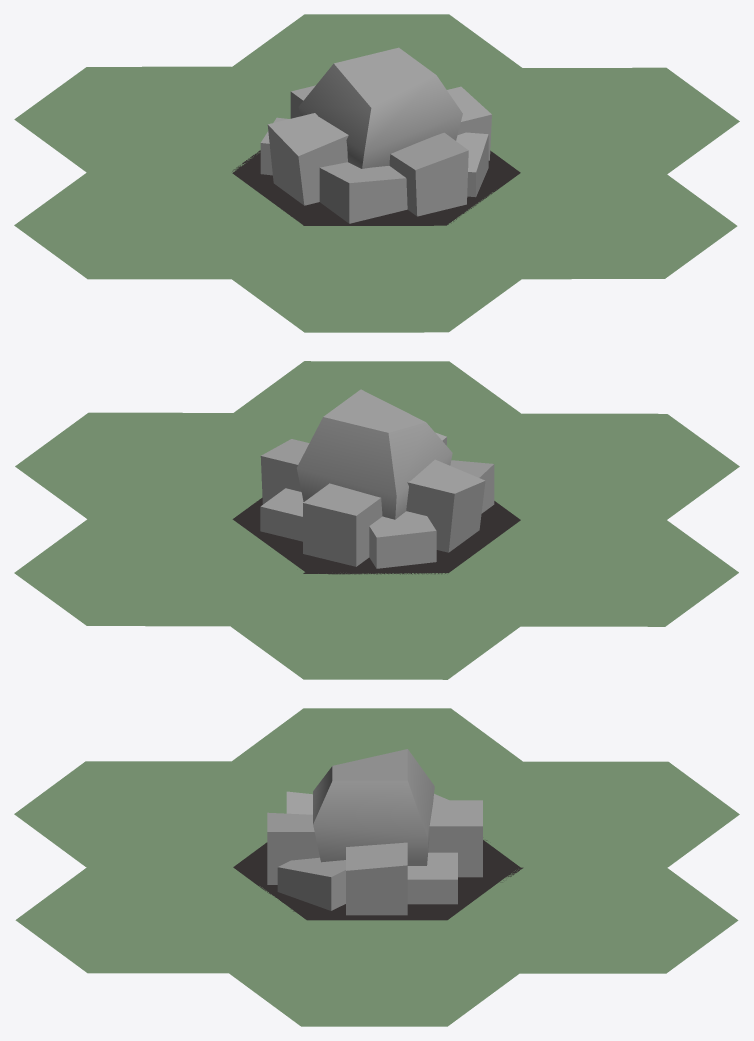
The model's file is Texture_Test.fbx.
The picture shows the model from 3 angles, top to bottom: view 1: azimuth 30°, elevation 25°; view 2: azimuth 150°, elevation 25°; view 3: azimuth 270°, elevation 25°; orthographic projection.
Parts seen in each view (by area): view 1: pPlane34, pPlane38, pPlane39, pPlane35, pPlane37, pPlane36, pCube10, pCube15, pPlane40, pCube12, pCube16, pCube17 (+1 smaller); view 2: pPlane36, pPlane34, pPlane35, pPlane38, pPlane37, pPlane39, pCube10, pCube13, pPlane40, pCube15, pCube11, pCube14 (+2 smaller); view 3: pPlane36, pPlane37, pPlane39, pPlane38, pPlane35, pPlane34, pCube10, pPlane40, pCube14, pCube13, pCube17, pCube12 (+2 smaller).
Boxes of the visible parts, x1=… form: pPlane34: x1=14, y1=172, x2=304, y2=279; pPlane38: x1=231, y1=225, x2=521, y2=332; pPlane39: x1=447, y1=172, x2=737, y2=279; pPlane35: x1=14, y1=66, x2=290, y2=173; pPlane37: x1=477, y1=67, x2=739, y2=174; pPlane36: x1=232, y1=14, x2=521, y2=109; pCube10: x1=298, y1=47, x2=462, y2=168; pCube15: x1=267, y1=113, x2=348, y2=205; pPlane40: x1=232, y1=150, x2=520, y2=225; pCube12: x1=389, y1=132, x2=468, y2=216; pCube16: x1=319, y1=162, x2=407, y2=223; pCube17: x1=456, y1=132, x2=488, y2=197; pPlane36: x1=14, y1=519, x2=304, y2=626; pPlane34: x1=448, y1=519, x2=738, y2=626; pPlane35: x1=231, y1=573, x2=520, y2=679; pPlane38: x1=458, y1=413, x2=739, y2=520; pPlane37: x1=15, y1=412, x2=278, y2=519; pPlane39: x1=232, y1=361, x2=521, y2=460; pCube10: x1=296, y1=389, x2=452, y2=519; pCube13: x1=303, y1=483, x2=382, y2=566; pPlane40: x1=232, y1=497, x2=520, y2=574; pCube15: x1=406, y1=459, x2=485, y2=552; pCube11: x1=369, y1=511, x2=436, y2=568; pCube14: x1=260, y1=439, x2=309, y2=504; pPlane36: x1=447, y1=867, x2=738, y2=973; pPlane37: x1=229, y1=920, x2=519, y2=1026; pPlane39: x1=15, y1=867, x2=306, y2=973; pPlane38: x1=14, y1=761, x2=286, y2=867; pPlane35: x1=470, y1=761, x2=739, y2=867; pPlane34: x1=232, y1=708, x2=522, y2=801; pCube10: x1=313, y1=749, x2=434, y2=865; pPlane40: x1=233, y1=840, x2=523, y2=920; pCube14: x1=346, y1=842, x2=407, y2=915; pCube13: x1=428, y1=800, x2=482, y2=877; pCube17: x1=277, y1=857, x2=345, y2=910; pCube12: x1=267, y1=812, x2=319, y2=884.
Size of the model in its own units: 182 by 29.37 by 175.
